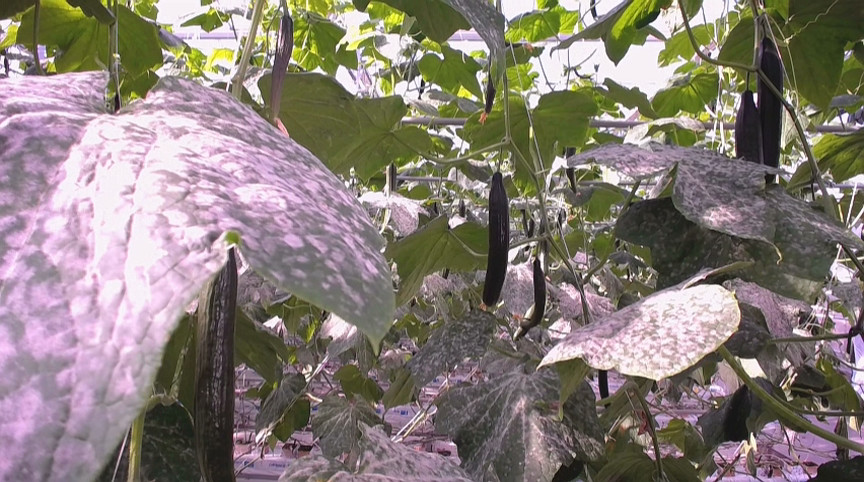cucumber: (193, 247, 240, 482), (482, 172, 510, 306), (759, 38, 780, 178), (734, 90, 765, 168), (519, 261, 545, 325)
